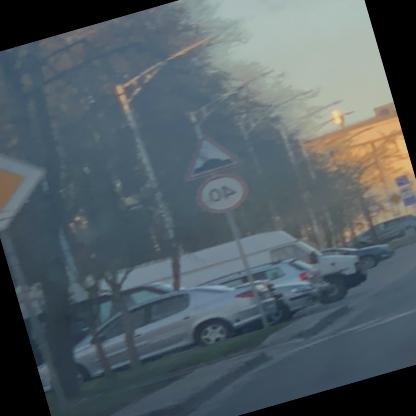speedlimit: (197, 167, 254, 216)
